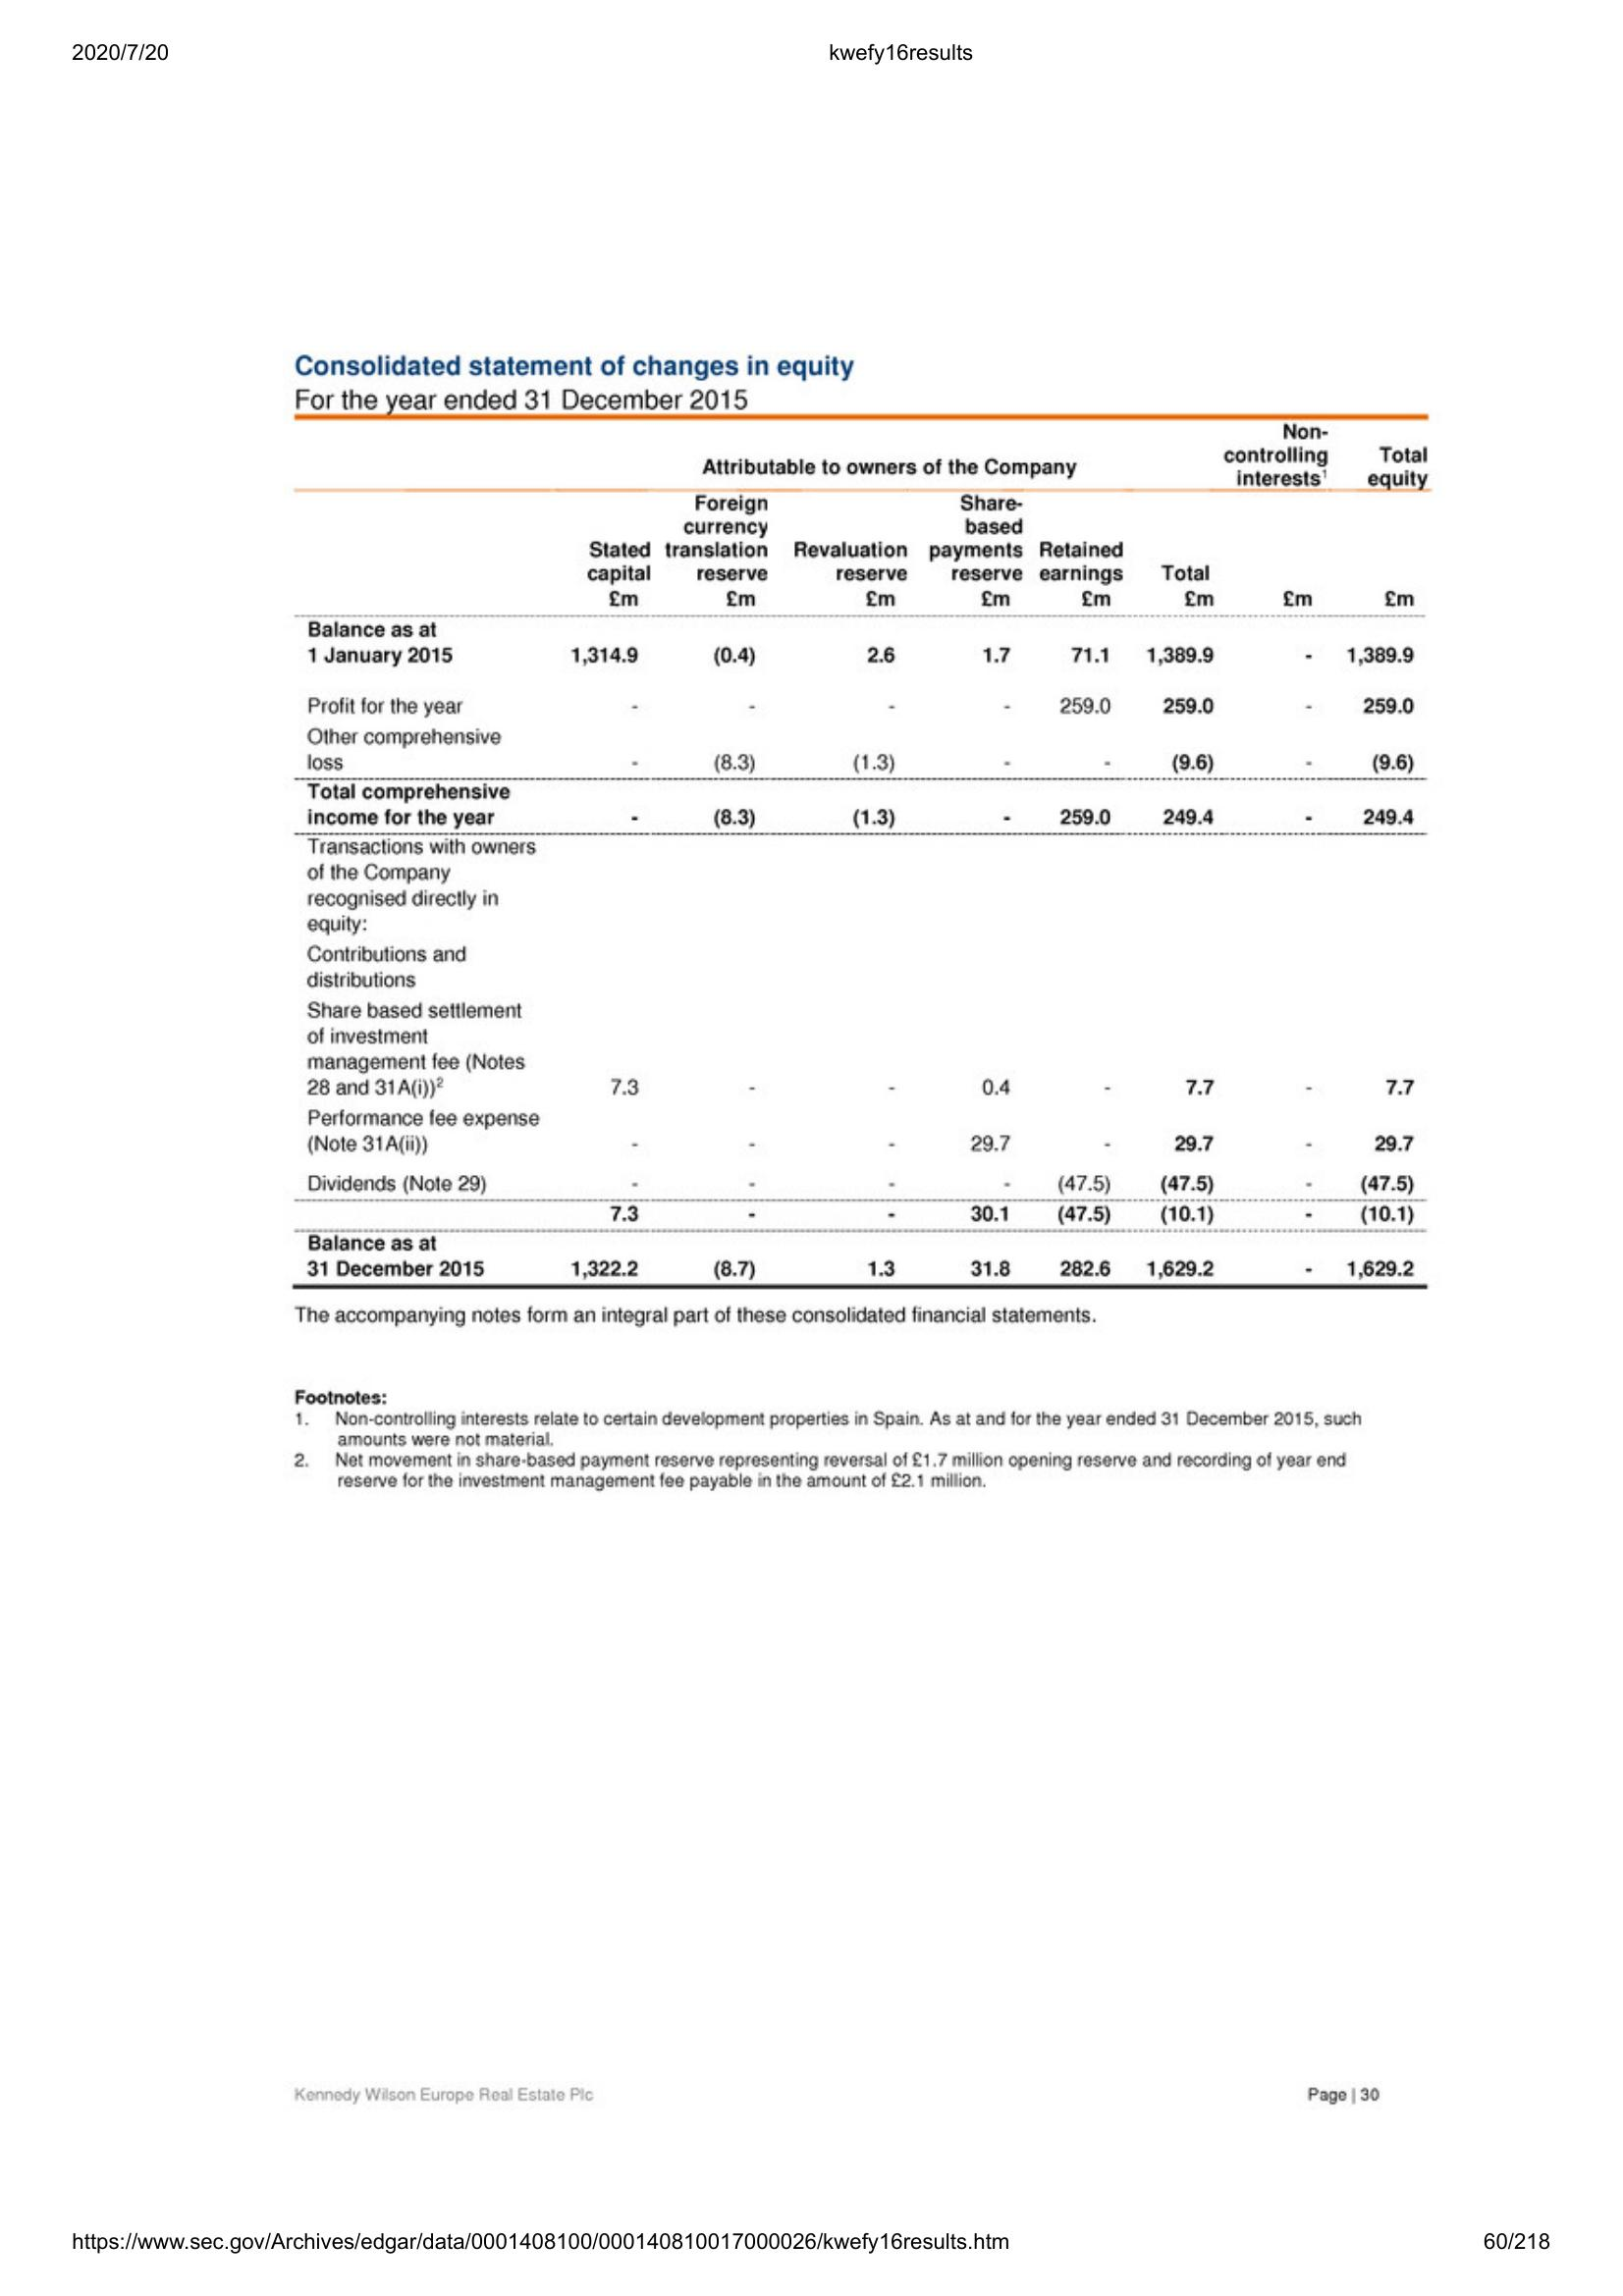table: (288, 407, 1437, 1299)
